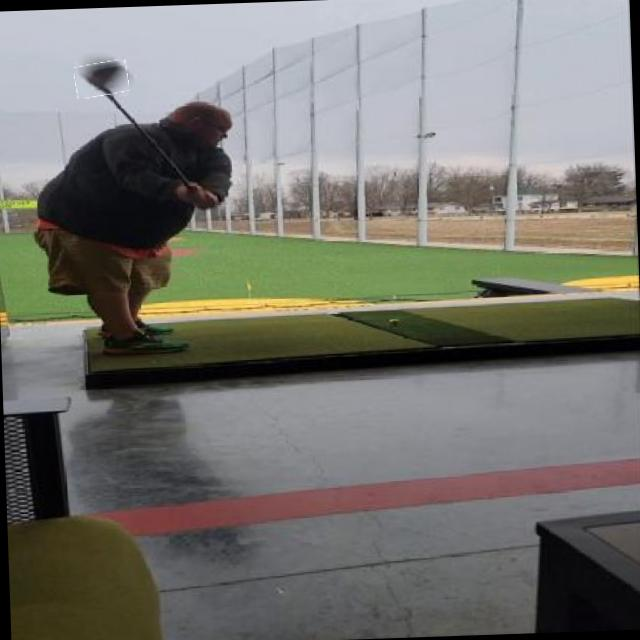club head: (75, 59, 128, 98)
